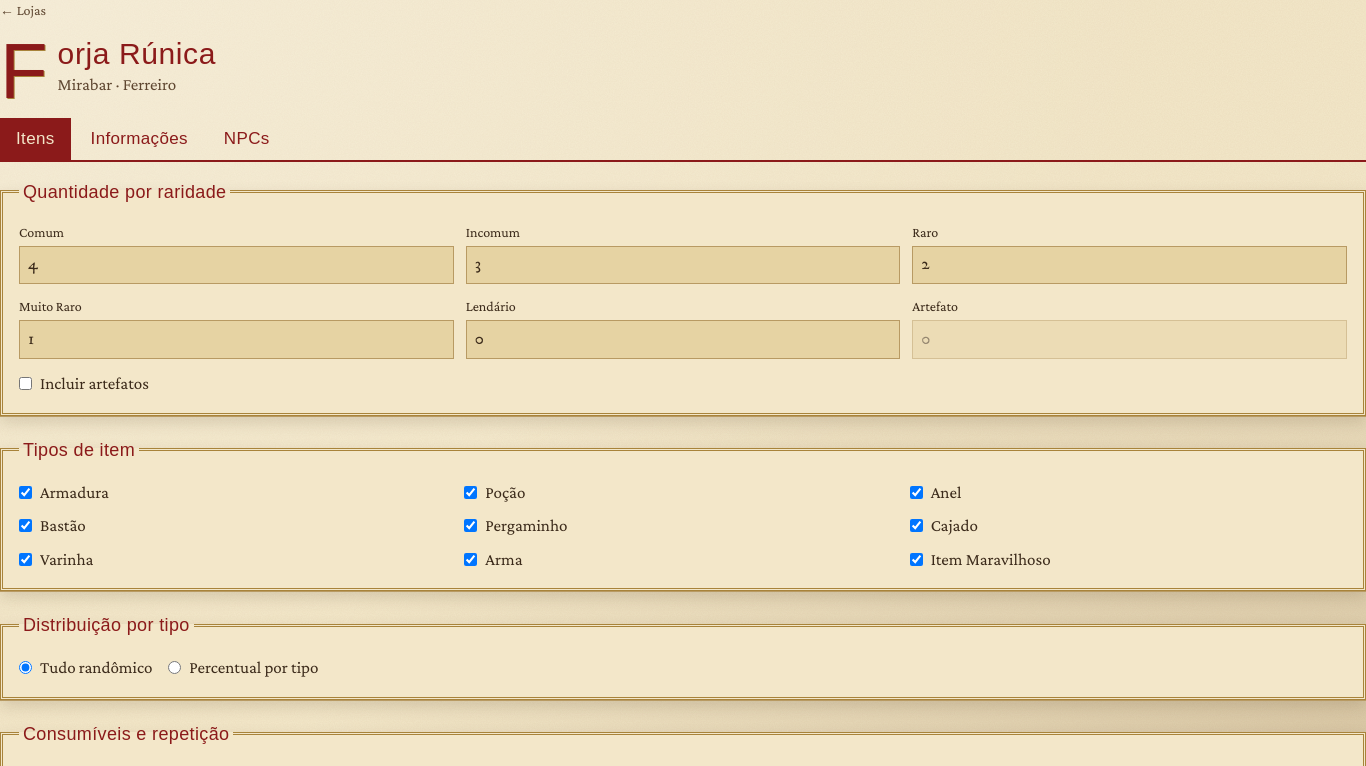
Test: ShopView › troca para a aba NPCs
Click the tab "NPCs" at (247, 139), box x1=208 y1=118 x2=286 y2=160
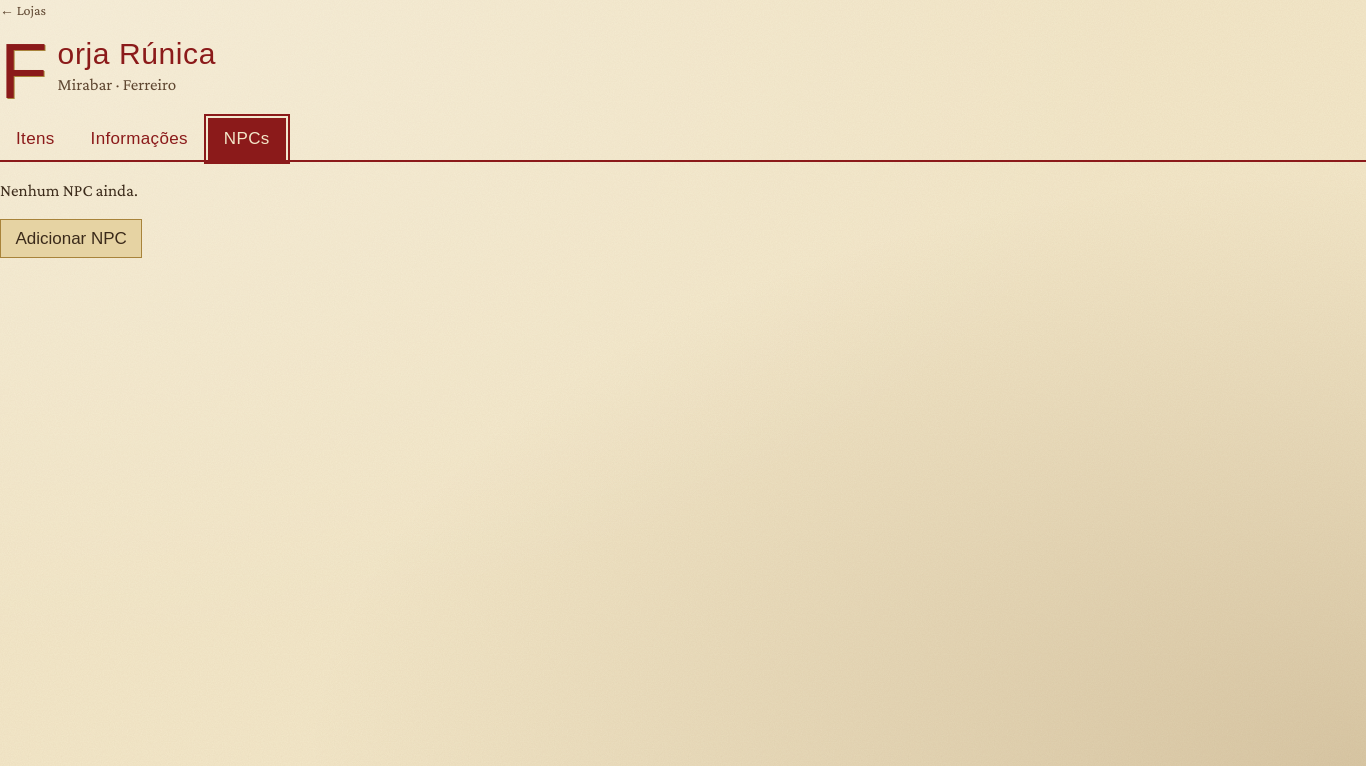
Now the button "Adicionar NPC" is shown, box x1=0 y1=219 x2=142 y2=258
